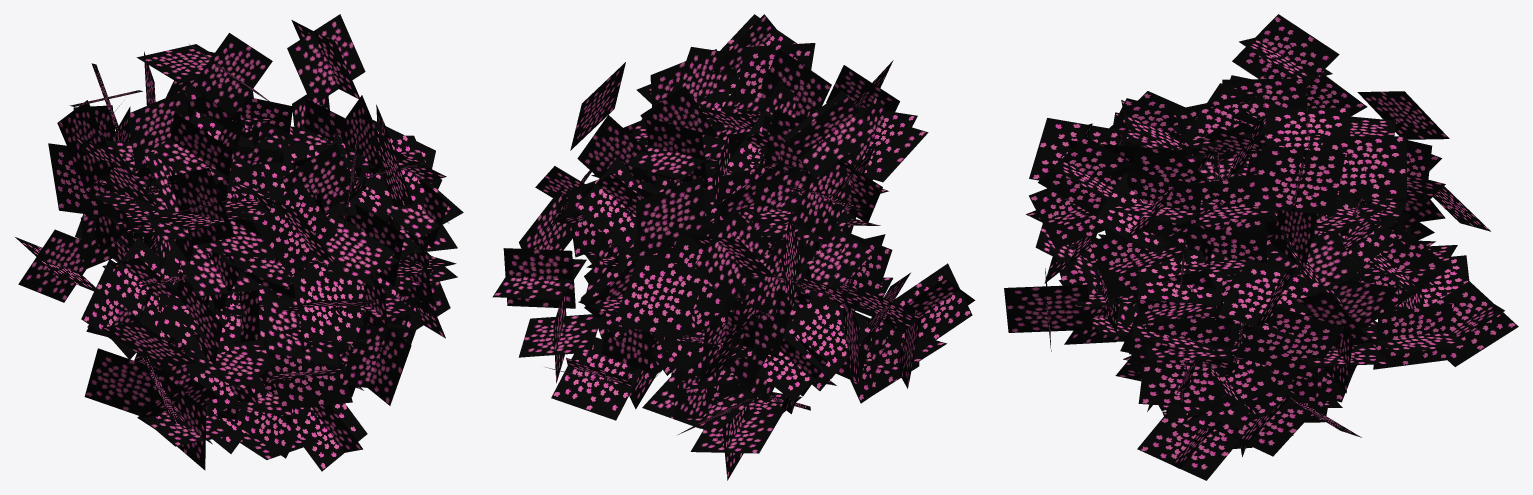
Rendered from Maple Leaves.obj.
The picture shows the model from 3 angles, left to right: view 1: azimuth 30°, elevation 25°; view 2: azimuth 150°, elevation 25°; view 3: azimuth 270°, elevation 25°; orthographic projection. The views are drawn at different scales.
Parts seen in each view (by area): view 1: Maple_Leaves_tree.008; view 2: Maple_Leaves_tree.008; view 3: Maple_Leaves_tree.008.
Part boxes in pixels (bbox=[...]): Maple_Leaves_tree.008: bbox=[15, 14, 463, 471]; Maple_Leaves_tree.008: bbox=[492, 14, 975, 480]; Maple_Leaves_tree.008: bbox=[1004, 14, 1518, 480].
Size of the model in its own units: 8.22 by 8.43 by 10.34.
1 material, 1 textured.
